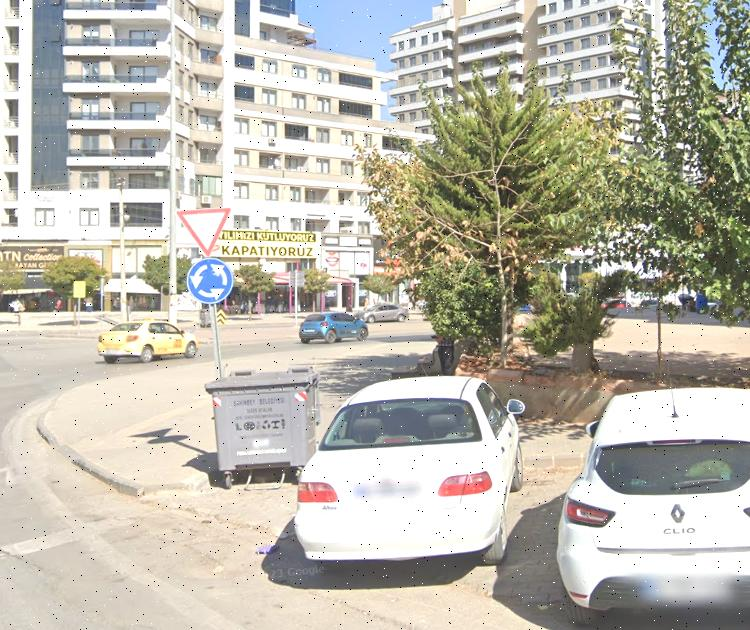crossroads: (188, 260, 235, 305)
